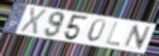0: (85, 19, 107, 44)
5: (62, 13, 90, 41)
9: (42, 11, 66, 39)
L: (104, 22, 121, 48)
N: (121, 24, 153, 51)
X: (18, 6, 49, 35)
